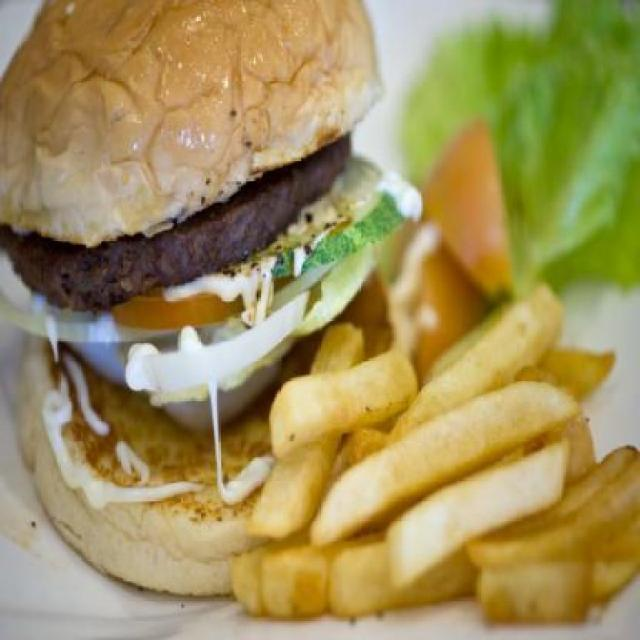Burger: (0, 0, 425, 600)
